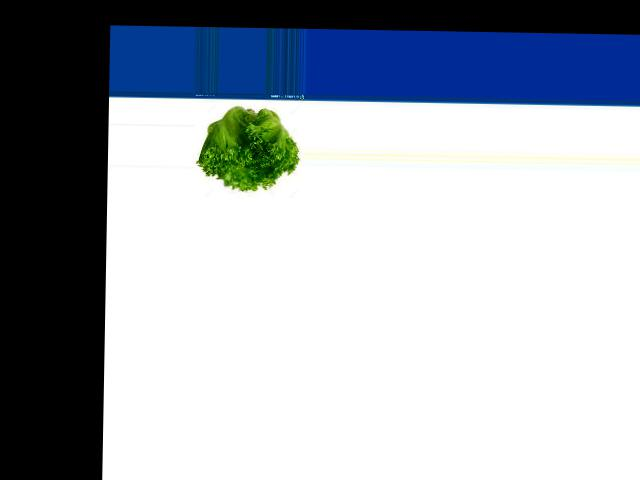lettuce: (199, 100, 300, 195)
